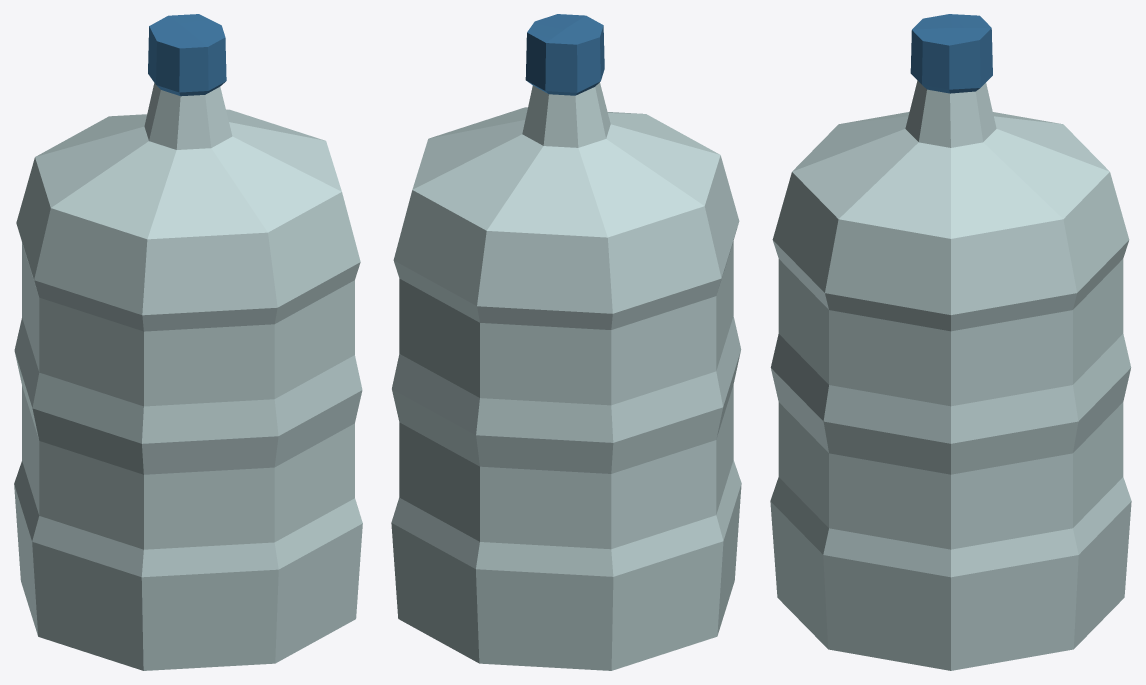
Rendered from food_water-cooling-bottle.fbx.
3 renders of one model, left to right at view 1: azimuth 30°, elevation 25°; view 2: azimuth 150°, elevation 25°; view 3: azimuth 270°, elevation 25°, orthographic.
Parts seen in each view (by area): view 1: food_water_cooling_bottle; view 2: food_water_cooling_bottle; view 3: food_water_cooling_bottle.
Boxes of the visible parts, bbox=[...] form: food_water_cooling_bottle: bbox=[14, 14, 362, 670]; food_water_cooling_bottle: bbox=[391, 14, 741, 670]; food_water_cooling_bottle: bbox=[770, 14, 1131, 670].
Size of the model in its own units: 114 by 200 by 114.
